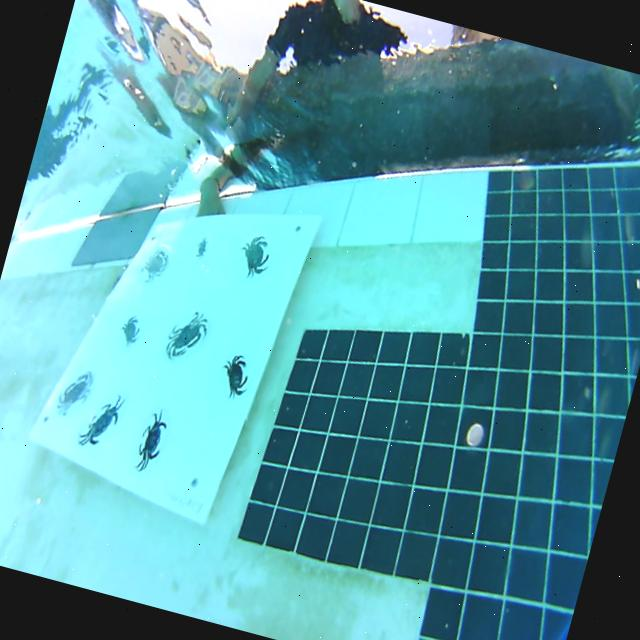green_crab: (79, 395, 124, 445), (136, 410, 166, 471), (196, 238, 208, 257)
jonah_crab: (166, 311, 206, 358), (56, 371, 92, 415), (143, 246, 169, 281)
rock_crab: (242, 236, 269, 276), (224, 355, 247, 396), (121, 316, 138, 344)
